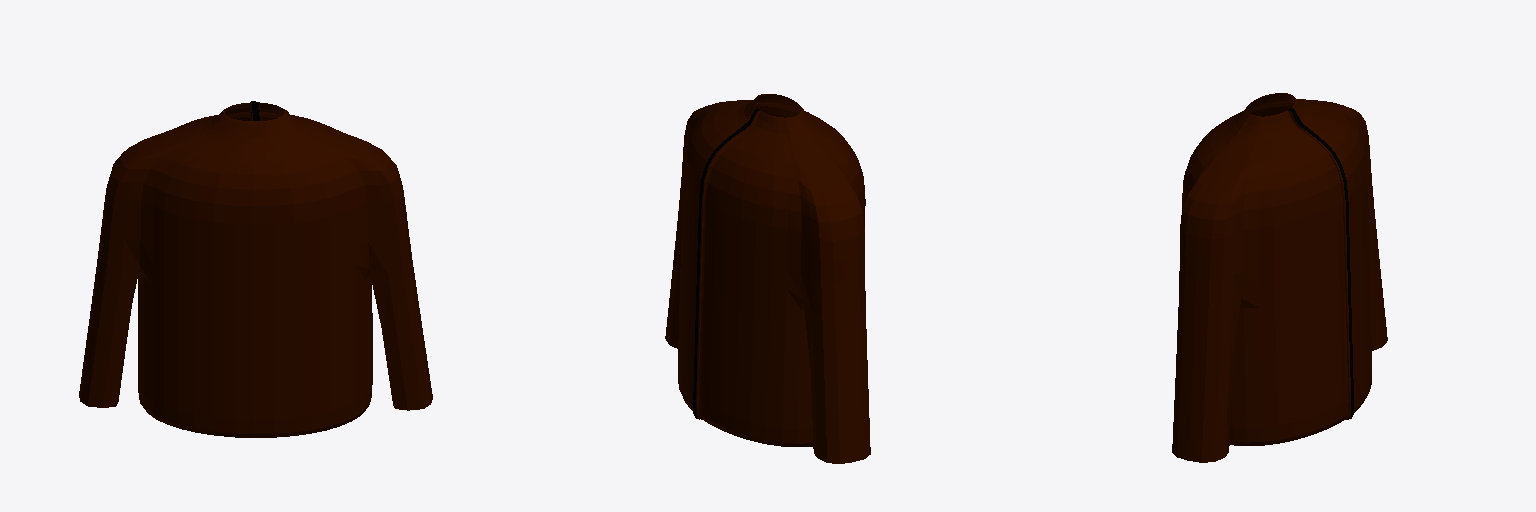
The model's file is Jacket.obj.
The picture shows the model from 3 angles: view 1: azimuth 30°, elevation 25°; view 2: azimuth 150°, elevation 25°; view 3: azimuth 270°, elevation 25°; orthographic projection.
Parts seen in each view (by area): view 1: Cylinder001; view 2: Cylinder001; view 3: Cylinder001.
Part boxes in pixels (x1,y1,x2,y2): Cylinder001: (79, 101, 432, 437); Cylinder001: (665, 94, 870, 463); Cylinder001: (1172, 93, 1387, 462).
Size of the model in its own units: 158261 by 165489 by 108490.